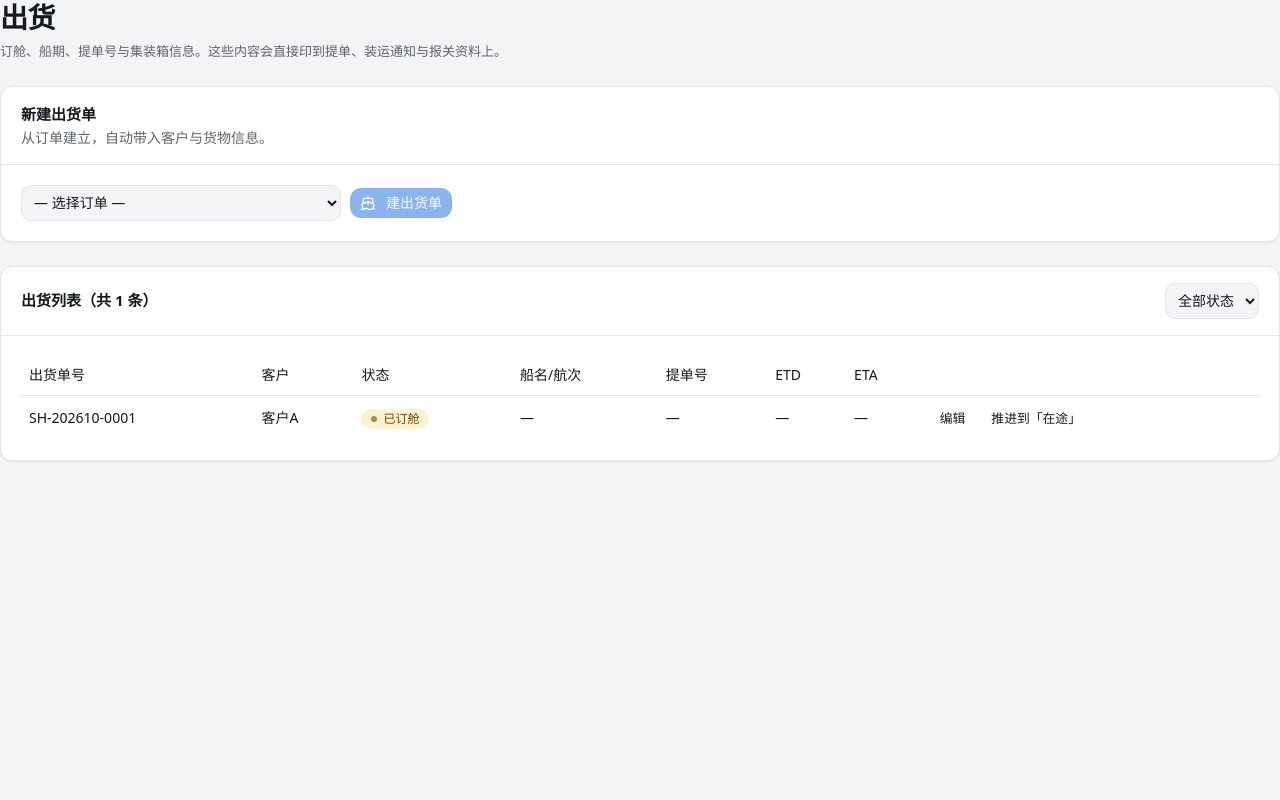
出货工位 · 失败反馈与防重 › 编辑保存失败 → 表单内显示原因（表单内容保留）
The width and height of the screenshot is (1280, 800).
Click the button "编辑" at (953, 418), box [929,404,976,432]
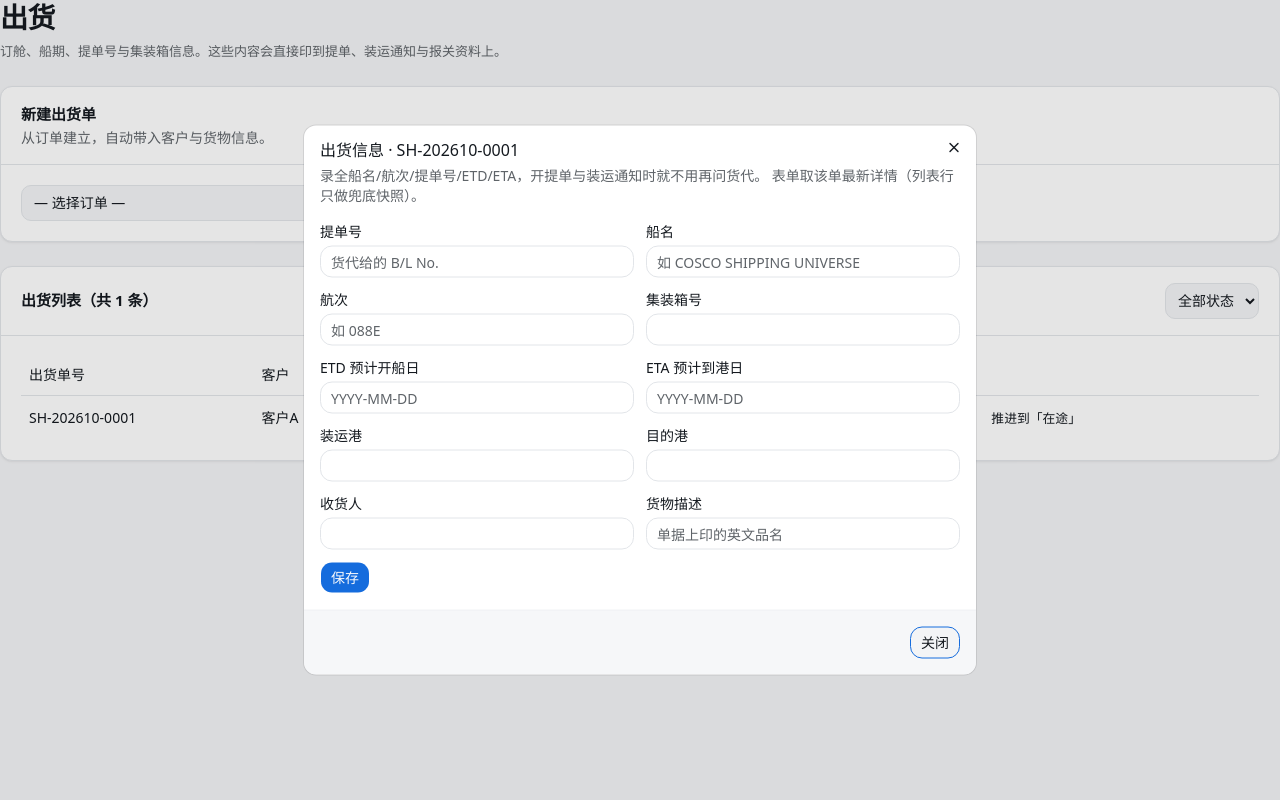
Expected: the text "出货信息 · SH-202610-0001" is shown, [320,138,519,160]
Click the button "保存" at (345, 578), box [320,562,370,594]
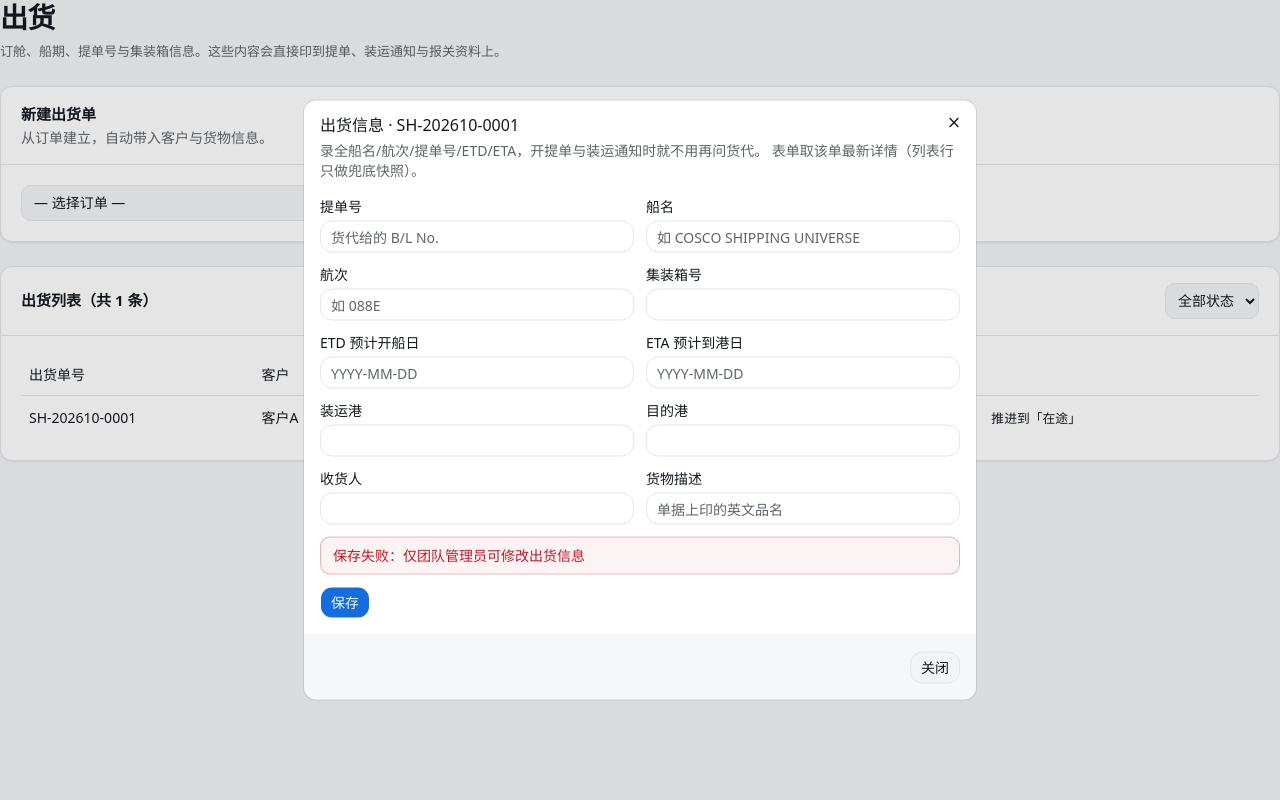
Expected: the text "出货信息 · SH-202610-0001" is shown, [320,114,519,136]
Expected: the message "保存失败：仅团队管理员可修改出货信息" is shown, [320,536,960,574]
